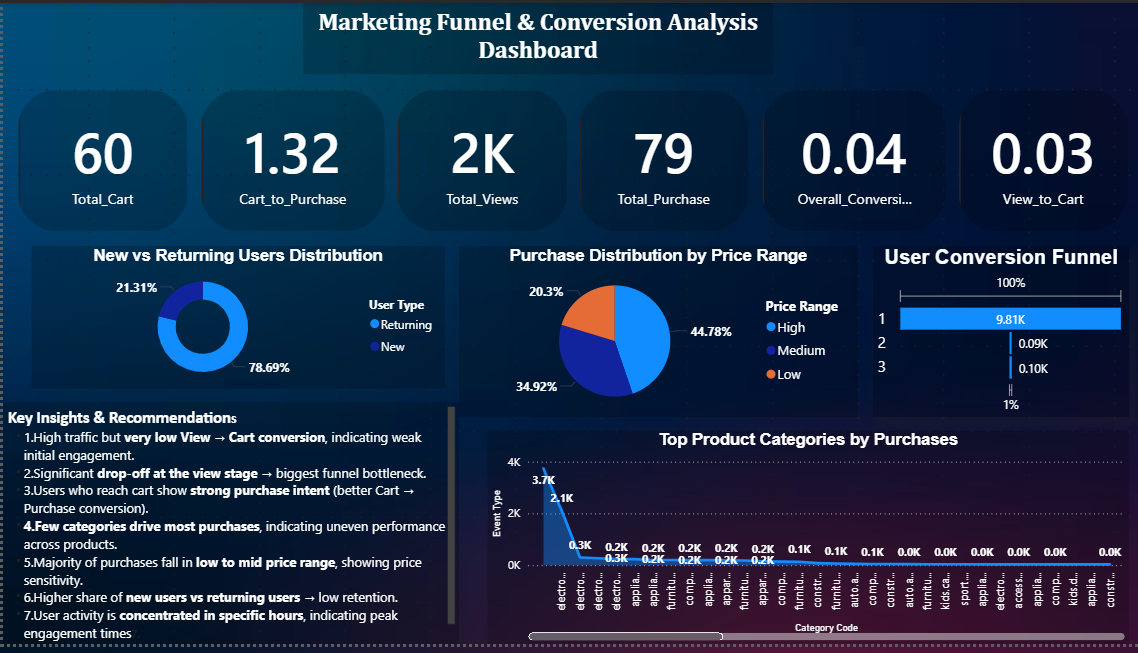

Layout of this report page (visuals, bound fields, positions):
{"tool":"powerbi","page":{"name":"Page 1","canvas":[1280,720],"ordinal":0},"visuals":[{"type":"funnel","title":"User Conversion Funnel","fields":{"Category":["cleaned_data.Event_Type_Sorted"],"Y":["CountNonNull(cleaned_data.event_type)"]},"box":[976,272,288,192],"z":0},{"type":"cardVisual","fields":{"Data":["cleaned_data.Total_Cart"]},"box":[0,80,224,192],"z":1},{"type":"cardVisual","fields":{"Data":["cleaned_data.Total_Purchase"]},"box":[630.4,80,224,192],"z":2},{"type":"cardVisual","fields":{"Data":["cleaned_data.View_to_Cart"]},"box":[1056,80,224,192],"z":3},{"type":"cardVisual","fields":{"Data":["cleaned_data.Total_Views"]},"box":[425.6,80,224,192],"z":4},{"type":"cardVisual","fields":{"Data":["cleaned_data.Overall_Conversion"]},"box":[835.2,80,240,192],"z":5},{"type":"cardVisual","fields":{"Data":["cleaned_data.Cart_to_Purchase"]},"box":[204.8,80,240,192],"z":6},{"type":"pieChart","title":"Purchase Distribution by Price Range","fields":{"Y":["CountNonNull(cleaned_data.event_type)"],"Category":["cleaned_data.Price_Range"]},"box":[512,272,448,192],"z":7},{"type":"donutChart","title":"New vs Returning Users Distribution","fields":{"Category":["cleaned_data.User_Type"],"Y":["Sum(cleaned_data.user_id)"]},"box":[32,272,464,160],"z":9},{"type":"areaChart","title":"Top Product Categories by Purchases","fields":{"Category":["cleaned_data.category_code"],"Y":["CountNonNull(cleaned_data.event_type)"]},"box":[544,480,720,240],"z":10},{"type":"textbox","box":[336,0,528,80],"z":11},{"type":"textbox","box":[0,448,512,272],"z":12}]}

Visuals, with their boxes in screenshot pixels (x1, y1, x2, y2), scaled from the page's 1280x720 canvas onto the 1138x653 screenshot:
"User Conversion Funnel" funnel: rect(868, 247, 1124, 421)
cardVisual - cleaned_data.Total_Cart: rect(0, 73, 199, 247)
cardVisual - cleaned_data.Total_Purchase: rect(560, 73, 760, 247)
cardVisual - cleaned_data.View_to_Cart: rect(939, 73, 1137, 247)
cardVisual - cleaned_data.Total_Views: rect(378, 73, 578, 247)
cardVisual - cleaned_data.Overall_Conversion: rect(743, 73, 956, 247)
cardVisual - cleaned_data.Cart_to_Purchase: rect(182, 73, 395, 247)
"Purchase Distribution by Price Range" pieChart: rect(455, 247, 854, 421)
"New vs Returning Users Distribution" donutChart: rect(28, 247, 441, 392)
"Top Product Categories by Purchases" areaChart: rect(484, 435, 1124, 652)
textbox: rect(299, 0, 768, 73)
textbox: rect(0, 406, 455, 652)
